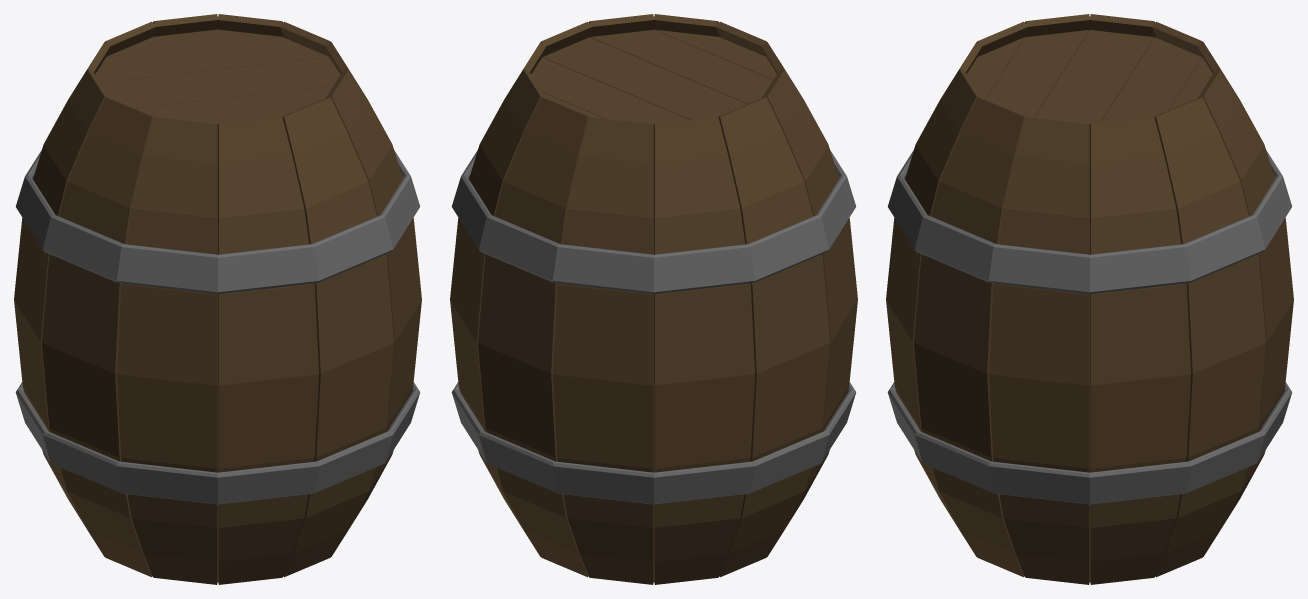
File: Barrel_01.fbx
3 renders of one model, left to right at view 1: azimuth 30°, elevation 25°; view 2: azimuth 150°, elevation 25°; view 3: azimuth 270°, elevation 25°, orthographic.
Visible parts, largest first — view 1: Barrel_01; view 2: Barrel_01; view 3: Barrel_01.
Boxes of the visible parts, x1,y1,x2,y2 form: Barrel_01: [14, 14, 421, 584]; Barrel_01: [450, 14, 857, 584]; Barrel_01: [886, 14, 1293, 584].
Size of the model in its own units: 165 by 206 by 165.
